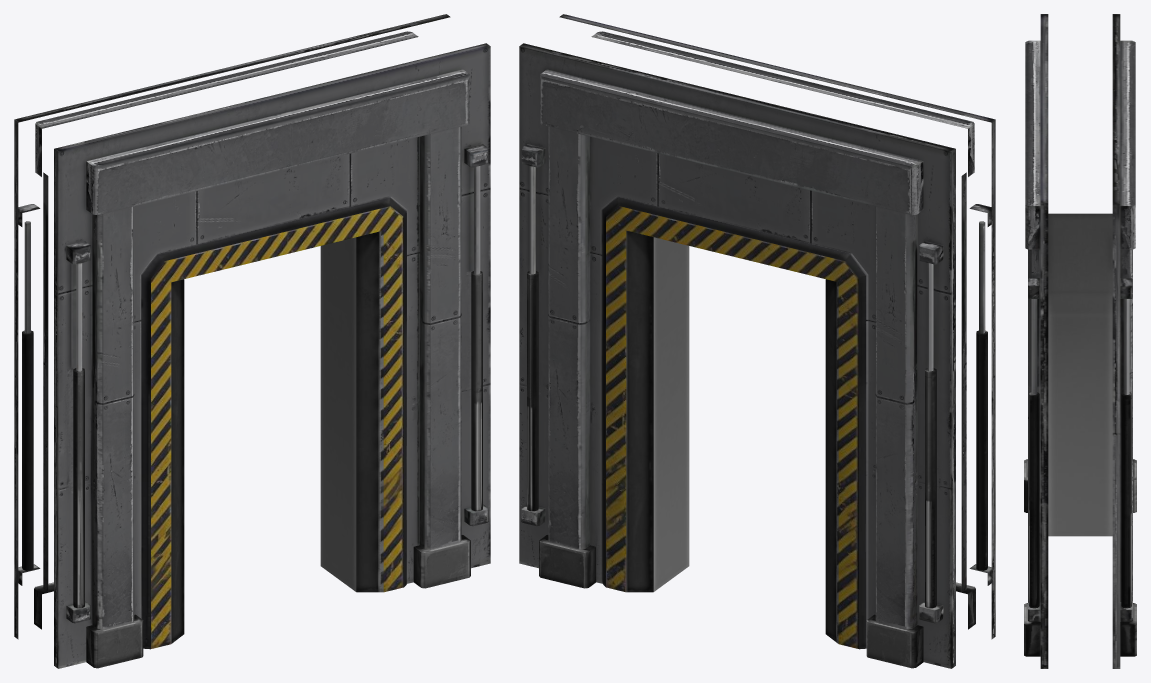
File: kit_door_frame.glb
3 views of the same model, side by side, from view 1: azimuth 30°, elevation 25°; view 2: azimuth 150°, elevation 25°; view 3: azimuth 270°, elevation 25° (orthographic). The views are drawn at different scales.
Visible parts, largest first — view 1: kit_door_frame.001; view 2: kit_door_frame.001; view 3: kit_door_frame.001.
Part boxes in pixels (box(x1,y1,x2,y2)): kit_door_frame.001: box(14, 14, 490, 668); kit_door_frame.001: box(519, 14, 995, 668); kit_door_frame.001: box(1024, 14, 1136, 668).
Bounding box in the file's own units: 7 × 8 × 1.76.
3 materials, 3 textured.
